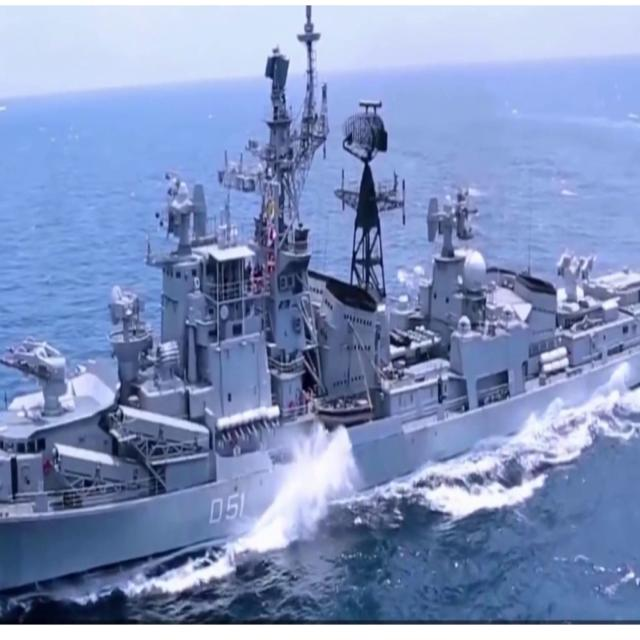OCR: (199, 482, 249, 533)
